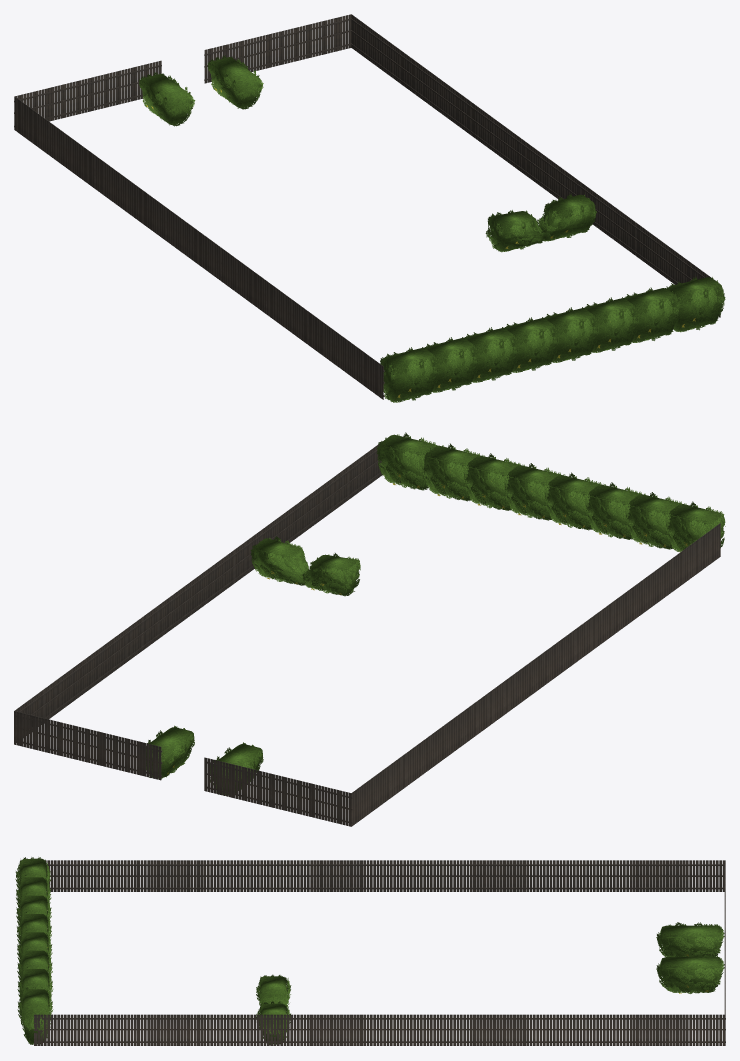
The model's file is Fence+Bush.fbx.
3 renders of one model, top to bottom at view 1: azimuth 30°, elevation 25°; view 2: azimuth 150°, elevation 25°; view 3: azimuth 270°, elevation 25°, orthographic. The views are drawn at different scales.
Visible parts, largest first — view 1: Fence, Bush; view 2: Fence, Bush; view 3: Fence, Bush.
Part boxes in pixels (bbox=[...]): Fence: bbox=[14, 14, 720, 399]; Bush: bbox=[139, 55, 725, 402]; Fence: bbox=[14, 441, 720, 826]; Bush: bbox=[146, 432, 725, 795]; Fence: bbox=[34, 860, 725, 1045]; Bush: bbox=[15, 857, 724, 1045].
Bounding box in the file's own units: 3814 × 538 × 7348.
2 materials, 2 textured.
